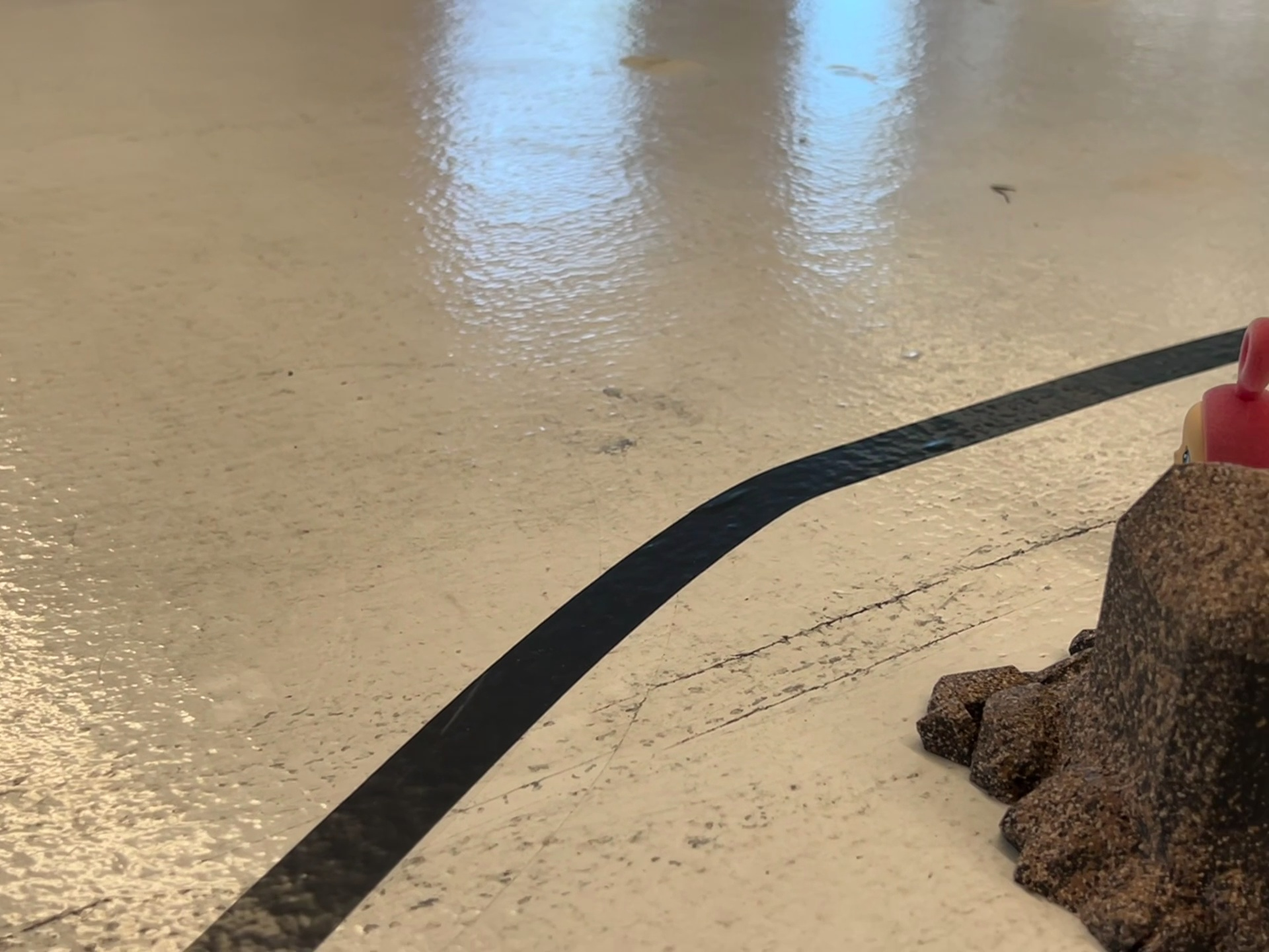teletubby: (1174, 317, 1268, 469)
